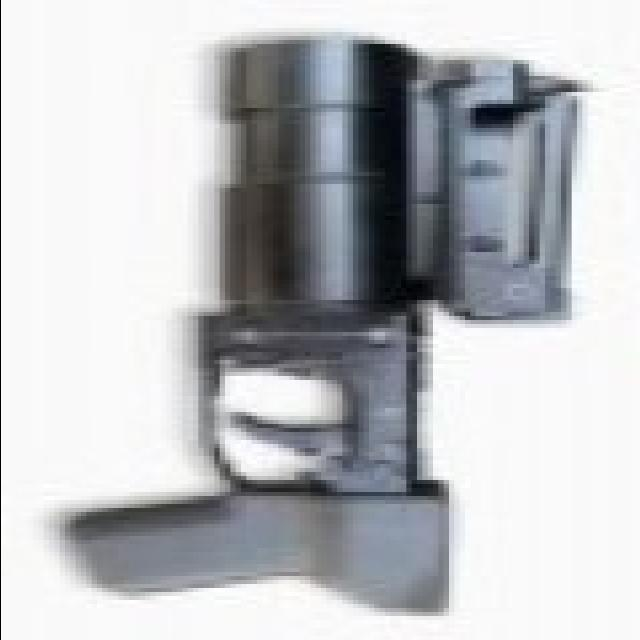handgun: (64, 52, 582, 608)
